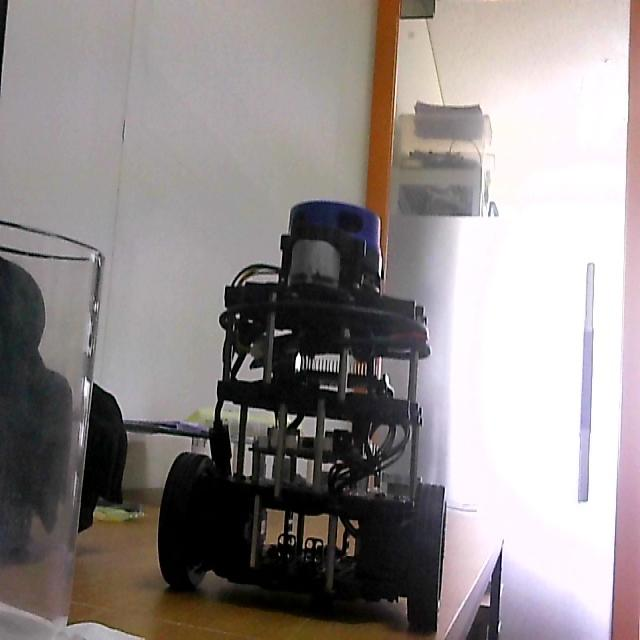turtle: (155, 195, 449, 640)
